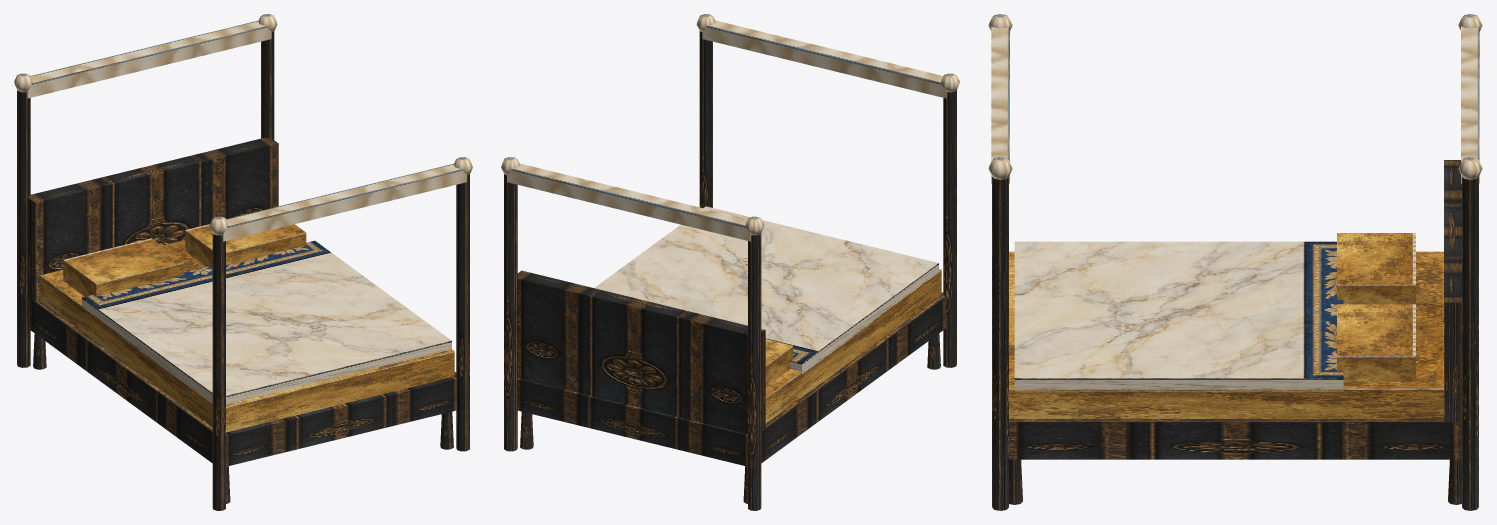
File: four-poster-bed.gltf
3 renders of one model, left to right at view 1: azimuth 30°, elevation 25°; view 2: azimuth 150°, elevation 25°; view 3: azimuth 270°, elevation 25°, orthographic. The views are drawn at different scales.
Parts seen in each view (by area): view 1: kit:0:furniture:mahogany:, kit:0:furniture:blue:, kit:0:furniture:drapery:, kit:0:furniture:gold:; view 2: kit:0:furniture:mahogany:, kit:0:furniture:blue:, kit:0:furniture:gold:, kit:0:furniture:drapery:; view 3: kit:0:furniture:blue:, kit:0:furniture:mahogany:, kit:0:furniture:drapery:, kit:0:furniture:gold:.
Boxes of the visible parts, x1=… form: kit:0:furniture:mahogany:: x1=17, y1=31, x2=469, y2=510; kit:0:furniture:blue:: x1=82, y1=240, x2=451, y2=404; kit:0:furniture:drapery:: x1=40, y1=224, x2=454, y2=432; kit:0:furniture:gold:: x1=14, y1=14, x2=472, y2=241; kit:0:furniture:mahogany:: x1=504, y1=31, x2=956, y2=510; kit:0:furniture:blue:: x1=594, y1=206, x2=938, y2=373; kit:0:furniture:gold:: x1=501, y1=14, x2=959, y2=241; kit:0:furniture:drapery:: x1=765, y1=269, x2=941, y2=423; kit:0:furniture:blue:: x1=1014, y1=241, x2=1343, y2=391; kit:0:furniture:mahogany:: x1=992, y1=160, x2=1478, y2=510; kit:0:furniture:drapery:: x1=1009, y1=233, x2=1443, y2=418; kit:0:furniture:gold:: x1=988, y1=14, x2=1482, y2=183.
Size of the model in its own units: 1.93 by 2.06 by 2.63.
Materials: 4 (4 with a texture image).
